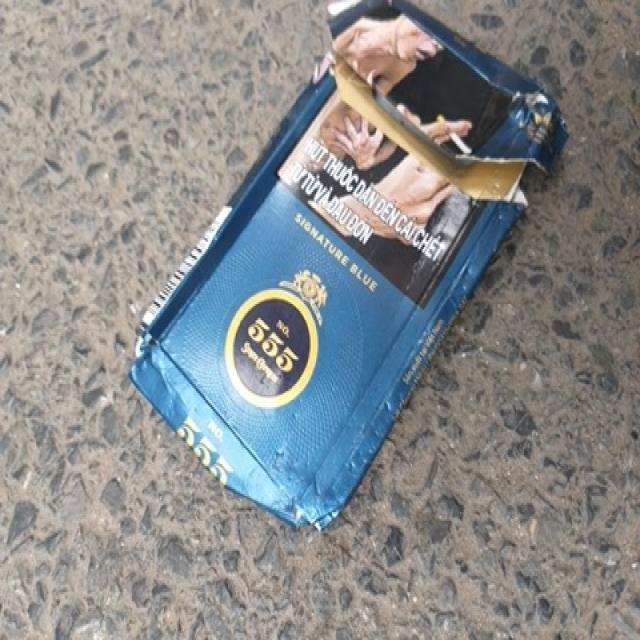PaperCardboard: (132, 6, 566, 546)
